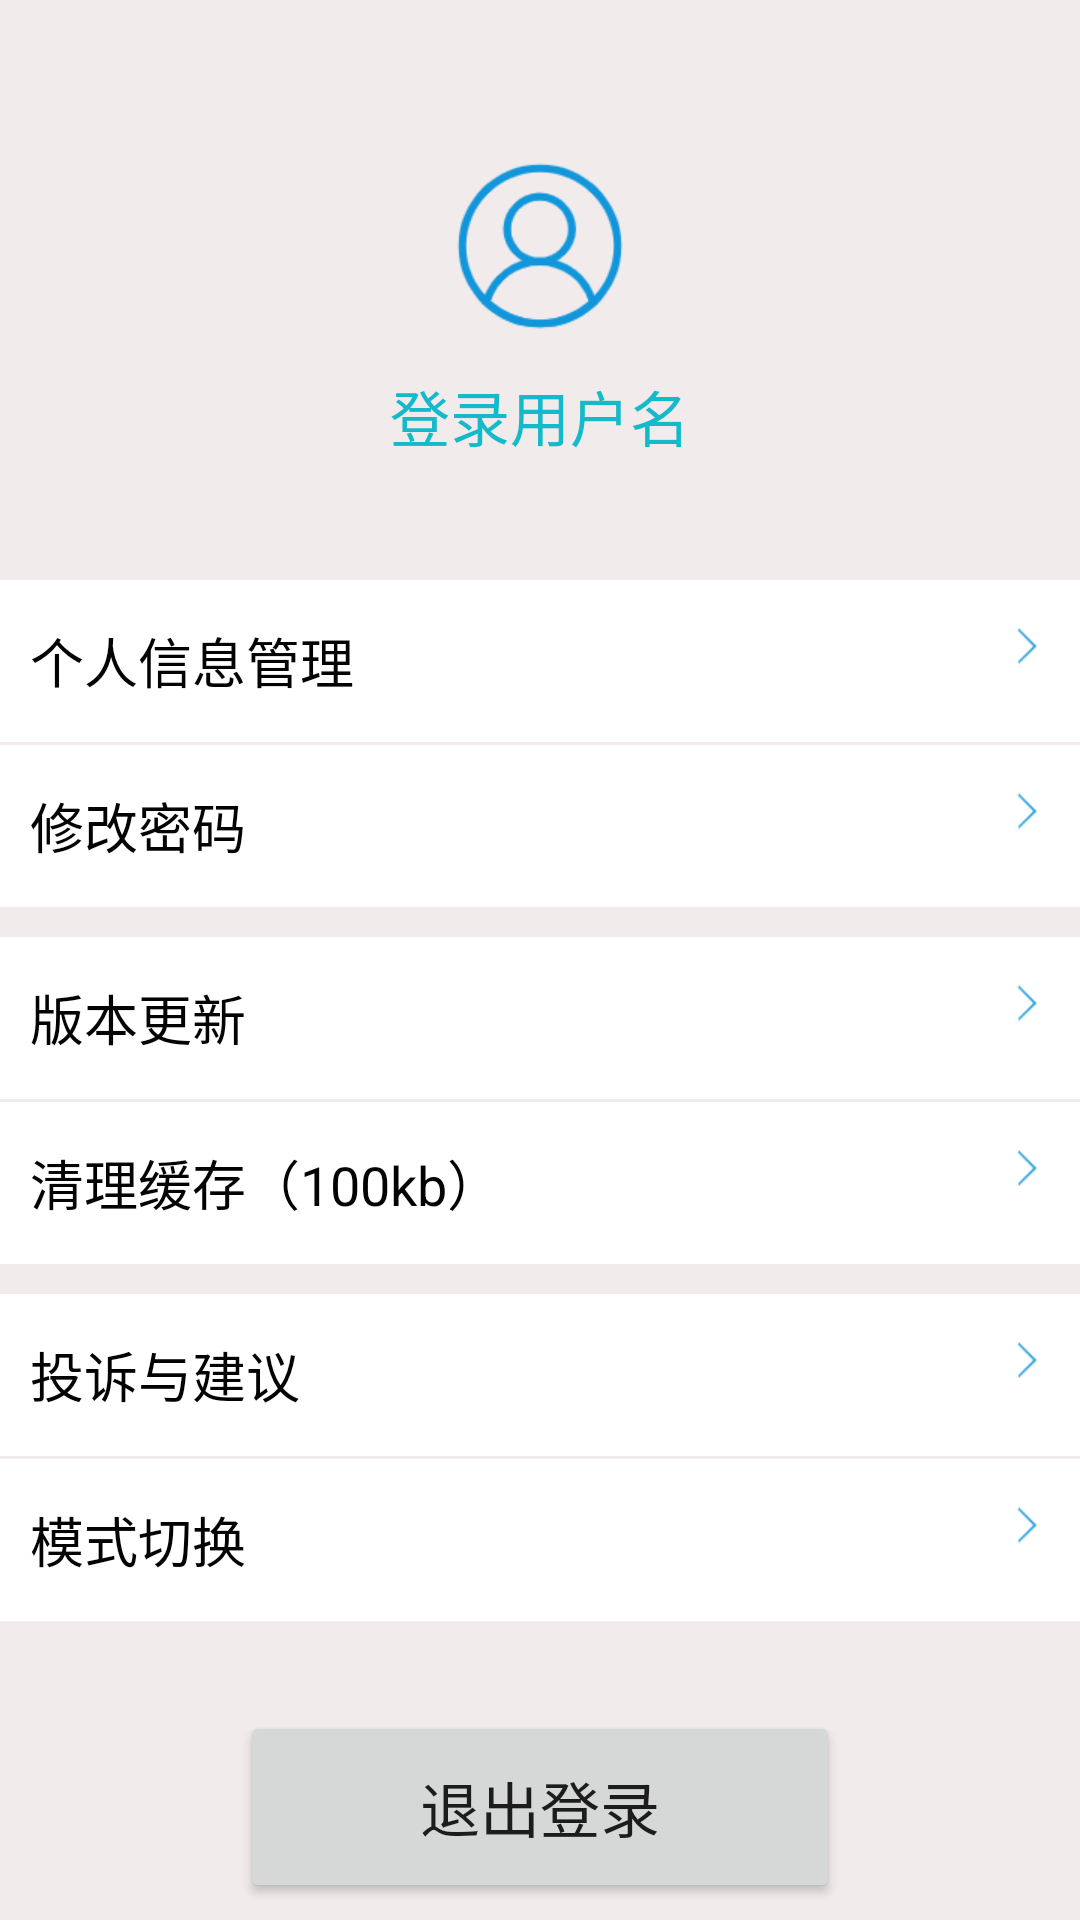

Screen size 1080*1920. Icon name, then its center in pixels as (x,y):
next: (1027,646), (1027,811), (1027,1003), (1027,1168), (1027,1360), (1027,1525)
